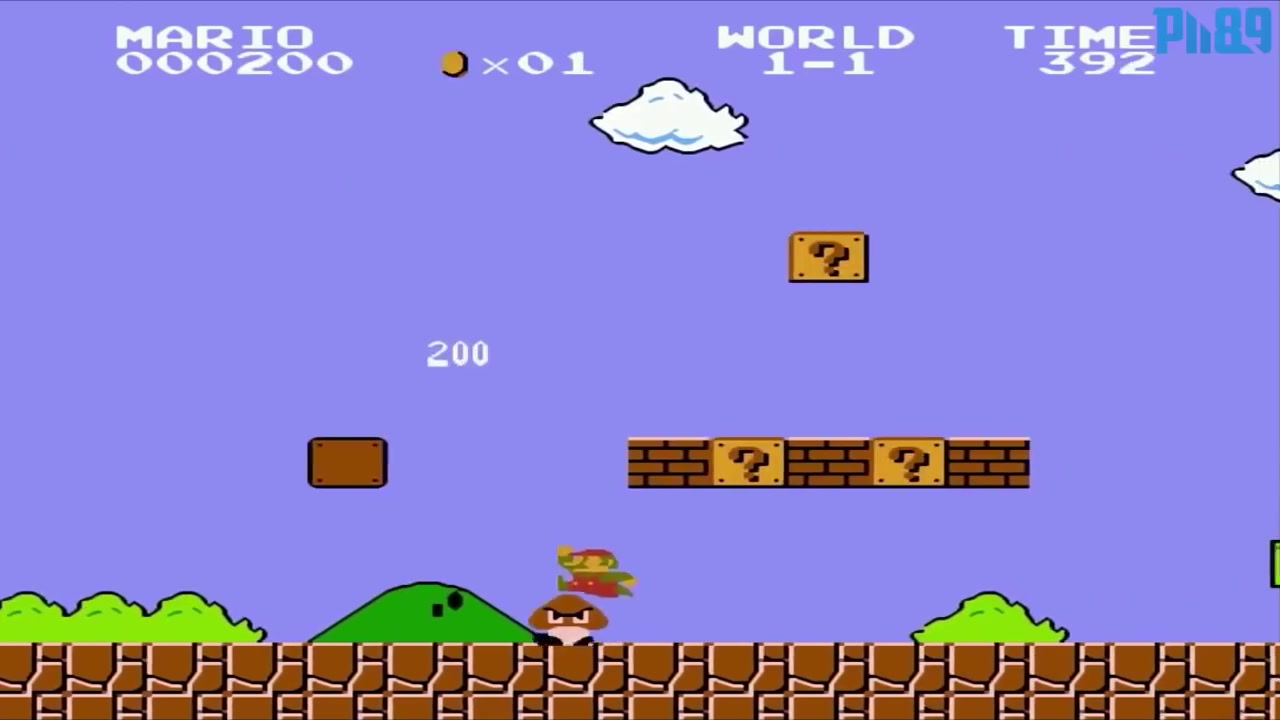mario: (548, 539, 645, 604)
